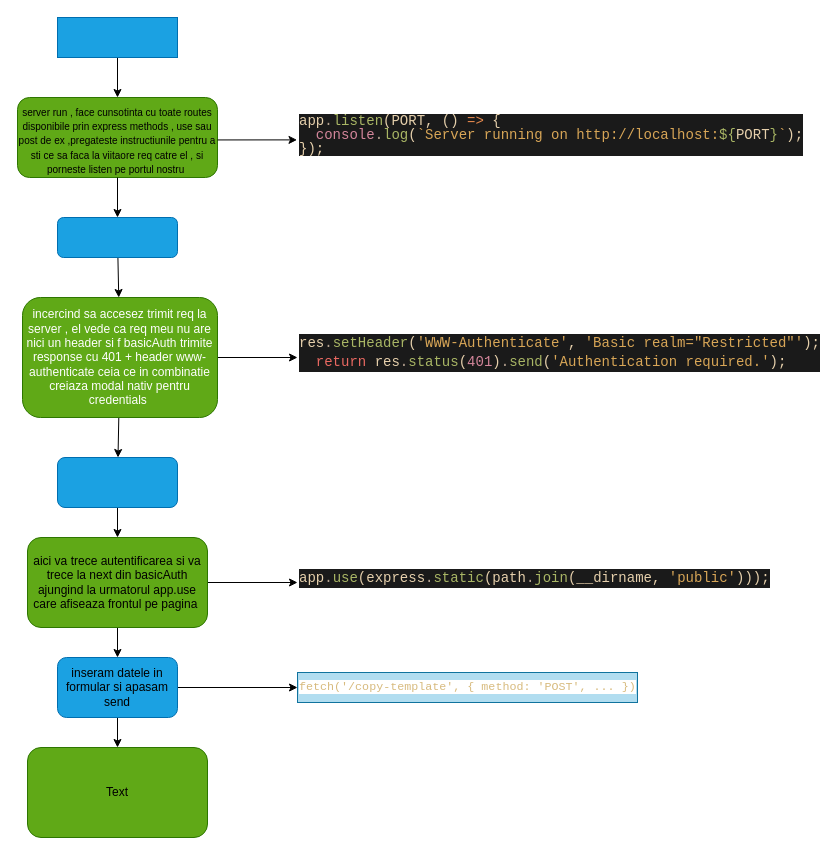
Some shapes in this 838 by 855 pixel diagram are drawn without their labels. The centre of each missing label's shape, as x and y in pixels:
inseram datele si retrimitem alt req cu date pentru auth: [117,482]
localhost:PORT: [117,237]
npm start: [117,37]
